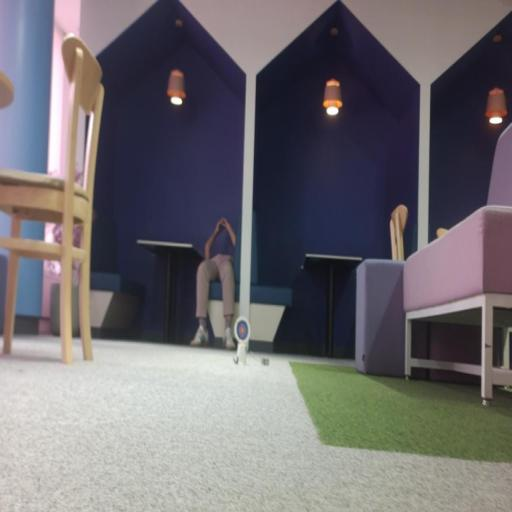target: (234, 316, 250, 343)
